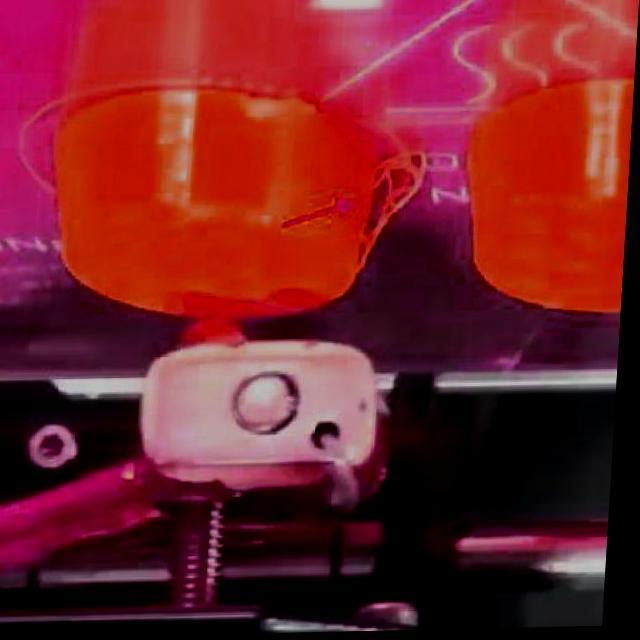spaghetti: (342, 142, 437, 293)
